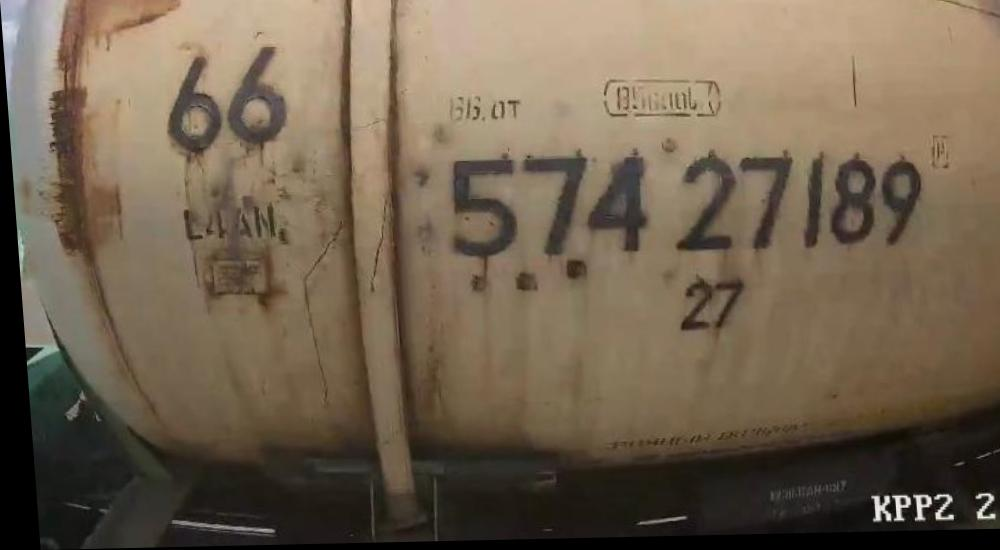Wagon-number: (436, 142, 928, 266)
